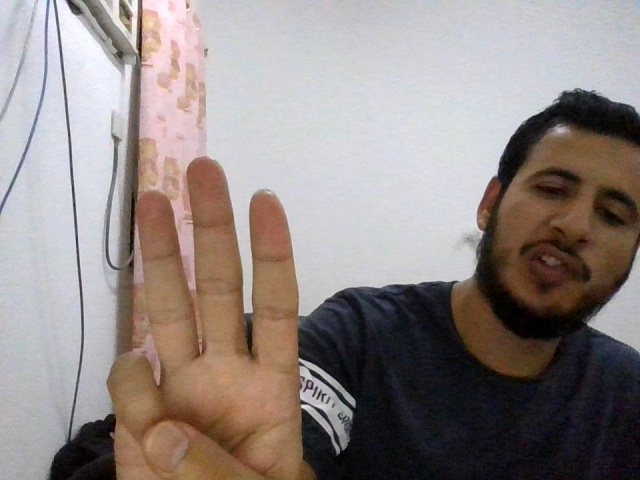Three: (108, 157, 305, 480)
